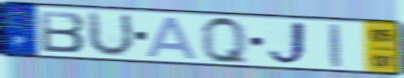A: (145, 15, 202, 61)
B: (38, 9, 88, 55)
I: (326, 21, 345, 69)
J: (264, 19, 312, 67)
Q: (198, 14, 252, 67)
U: (86, 10, 137, 58)
